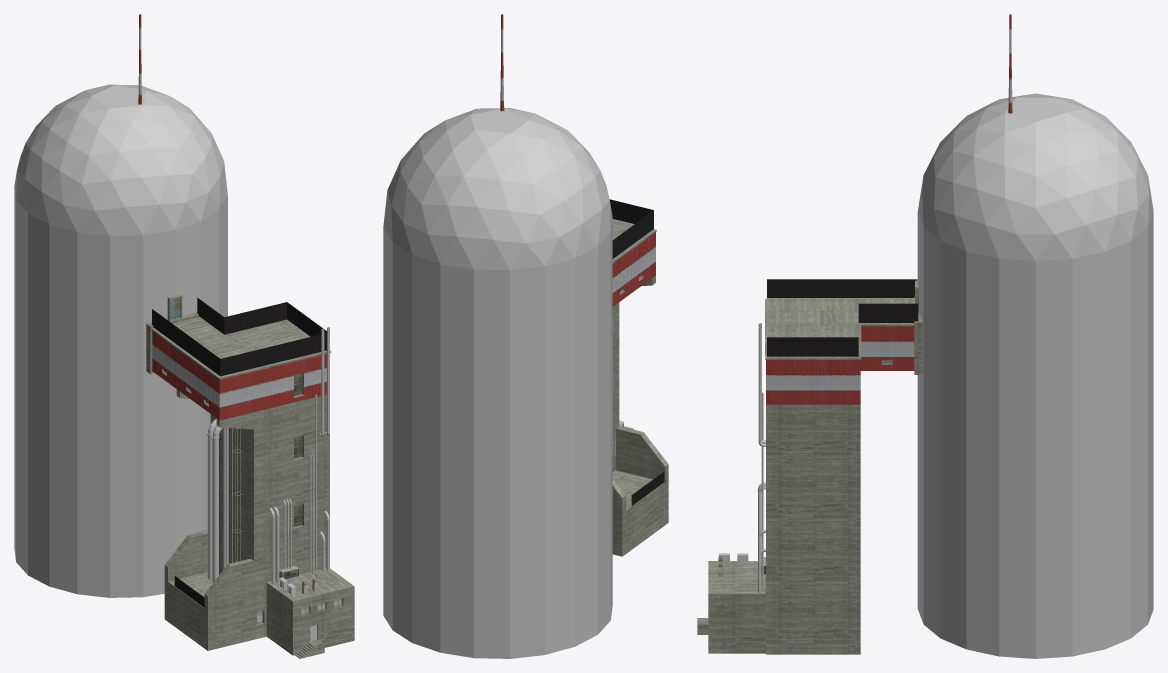
Rendered from Building_8_LOD01.fbx.
The picture shows the model from 3 angles, left to right: view 1: azimuth 30°, elevation 25°; view 2: azimuth 150°, elevation 25°; view 3: azimuth 270°, elevation 25°; orthographic projection. The views are drawn at different scales.
Visible parts, largest first — view 1: Building_8_LOD01; view 2: Building_8_LOD01; view 3: Building_8_LOD01.
Boxes of the visible parts, x1,y1,x2,y2 form: Building_8_LOD01: [14, 14, 354, 658]; Building_8_LOD01: [383, 14, 668, 658]; Building_8_LOD01: [697, 14, 1153, 658].
Bounding box in the file's own units: 29.31 × 82.03 × 56.71.
